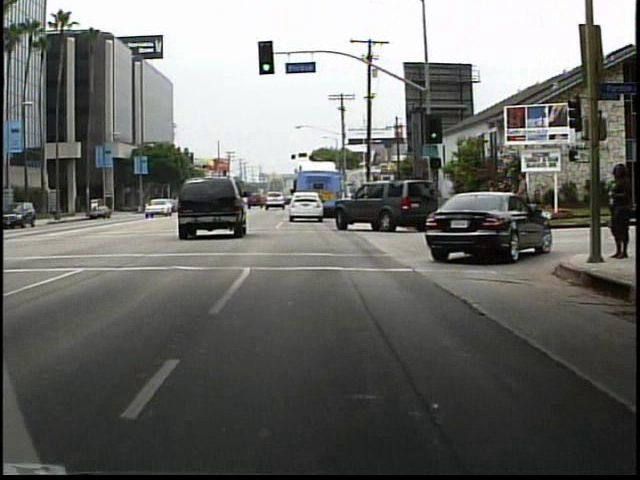person: (603, 161, 627, 261), (474, 176, 506, 236), (606, 171, 626, 235), (511, 173, 532, 224)
